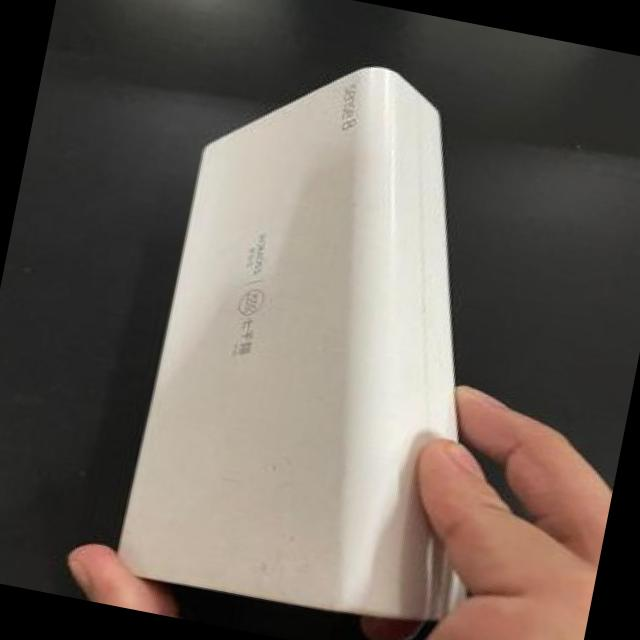portable-charger: (105, 28, 578, 640)
